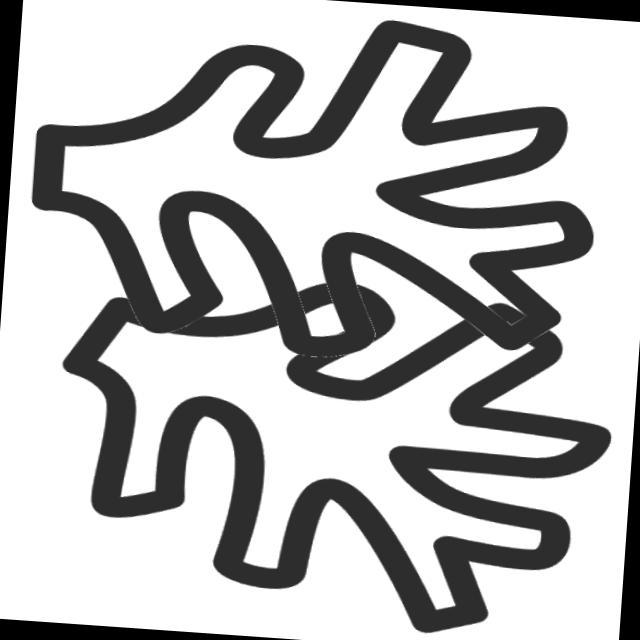coral: (12, 1, 615, 389), (31, 256, 634, 640)
